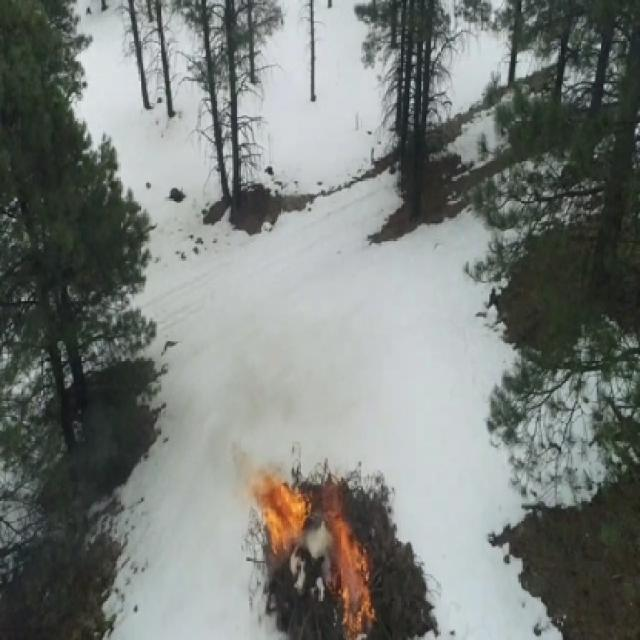Fire: (339, 564, 372, 637), (258, 484, 312, 512), (271, 511, 306, 550), (332, 521, 352, 568), (326, 476, 346, 522), (352, 541, 366, 569)
